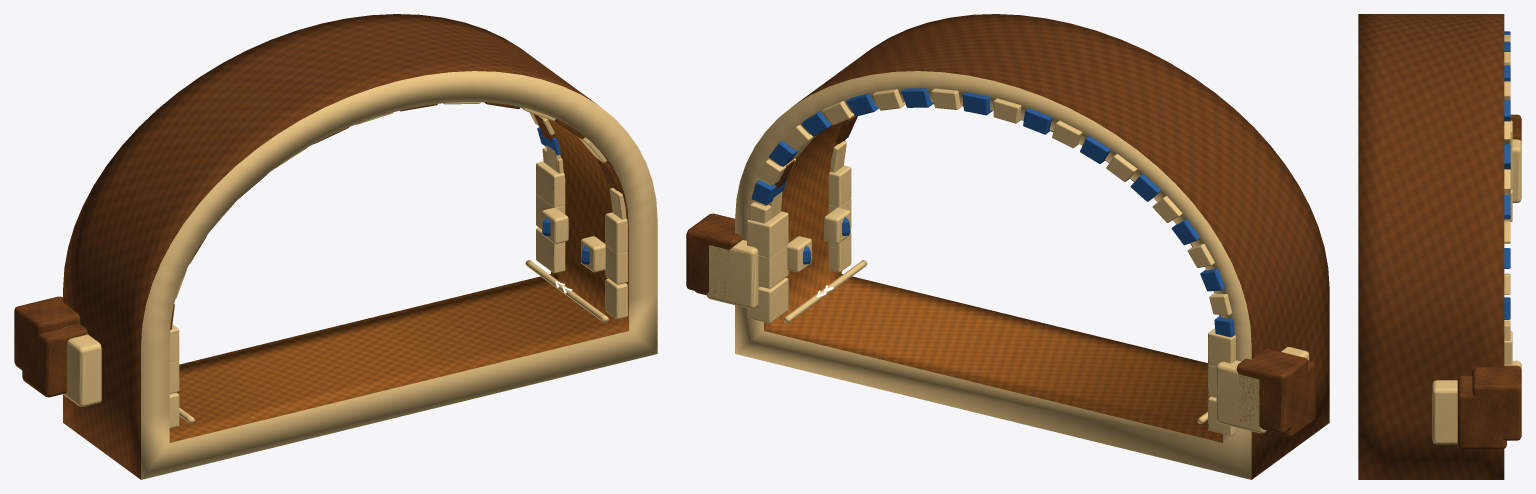
The model's file is portal_exit.glb.
The picture shows the model from 3 angles, left to right: view 1: azimuth 30°, elevation 25°; view 2: azimuth 150°, elevation 25°; view 3: azimuth 270°, elevation 25°; orthographic projection. The views are drawn at different scales.
Parts seen in each view (by area): view 1: TunnelGeometry; view 2: TunnelGeometry; view 3: TunnelGeometry.
Part boxes in pixels (<box>): TunnelGeometry: <box>14,14,657,479</box>; TunnelGeometry: <box>686,14,1329,479</box>; TunnelGeometry: <box>1358,14,1521,479</box>.
Size of the model in its own units: 17.75 by 9.52 by 4.48.
Materials: 5 (2 with a texture image).
